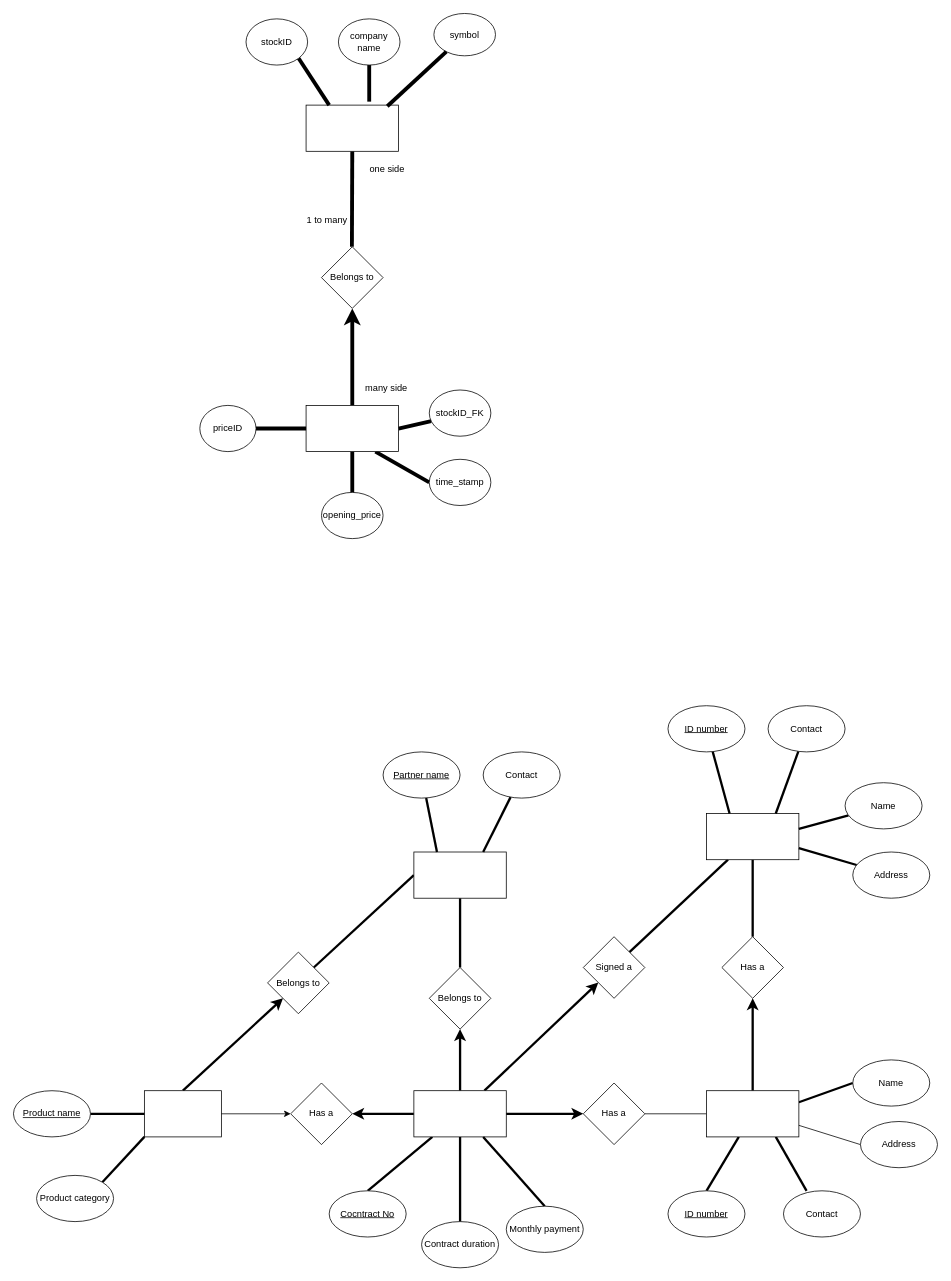
The diagram is 951 pixels wide and 1281 high, and some of its shapes have lost their labels. Each missing label, with the centre of its shape:
Advisor: [752,836]
Client: [752,1113]
Contract: [459,1113]
Partner: [459,874]
Price: [351,428]
Product: [182,1113]
Stock: [351,127]
